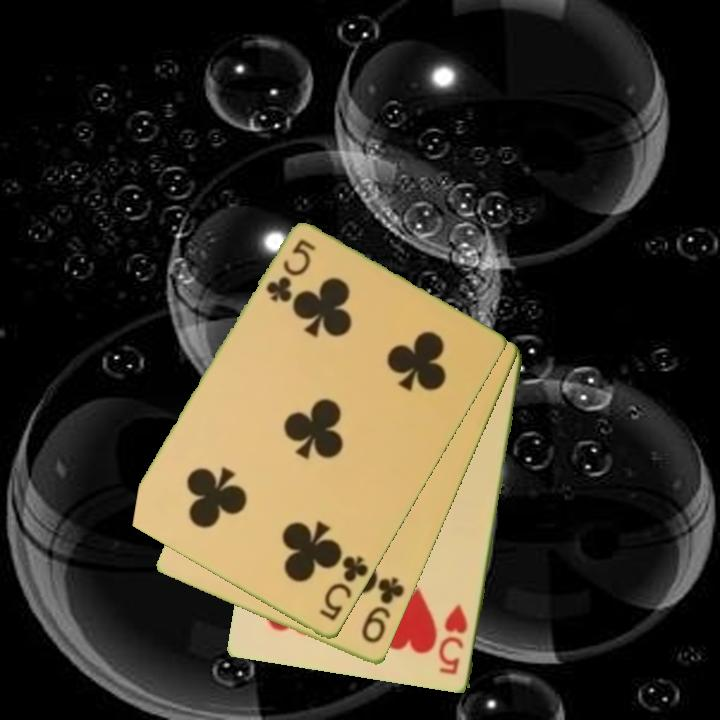5c: (316, 552, 372, 625), (262, 236, 319, 306)
5h: (436, 601, 471, 678)
9c: (358, 574, 408, 647)
